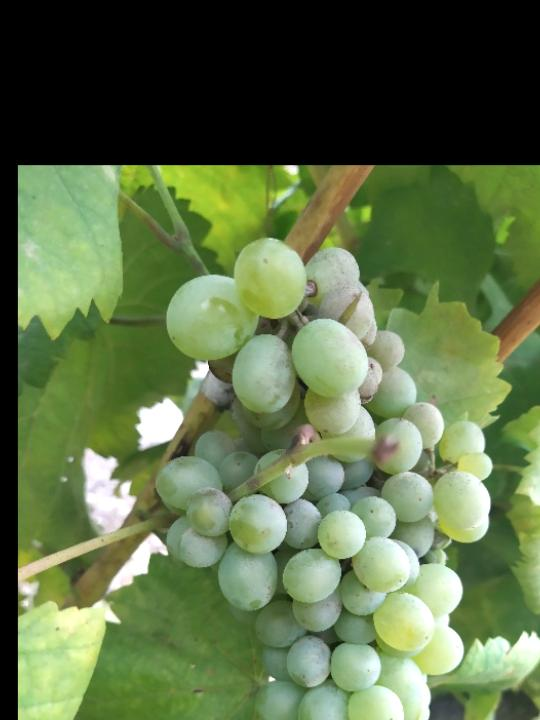grape: (151, 229, 500, 720)
